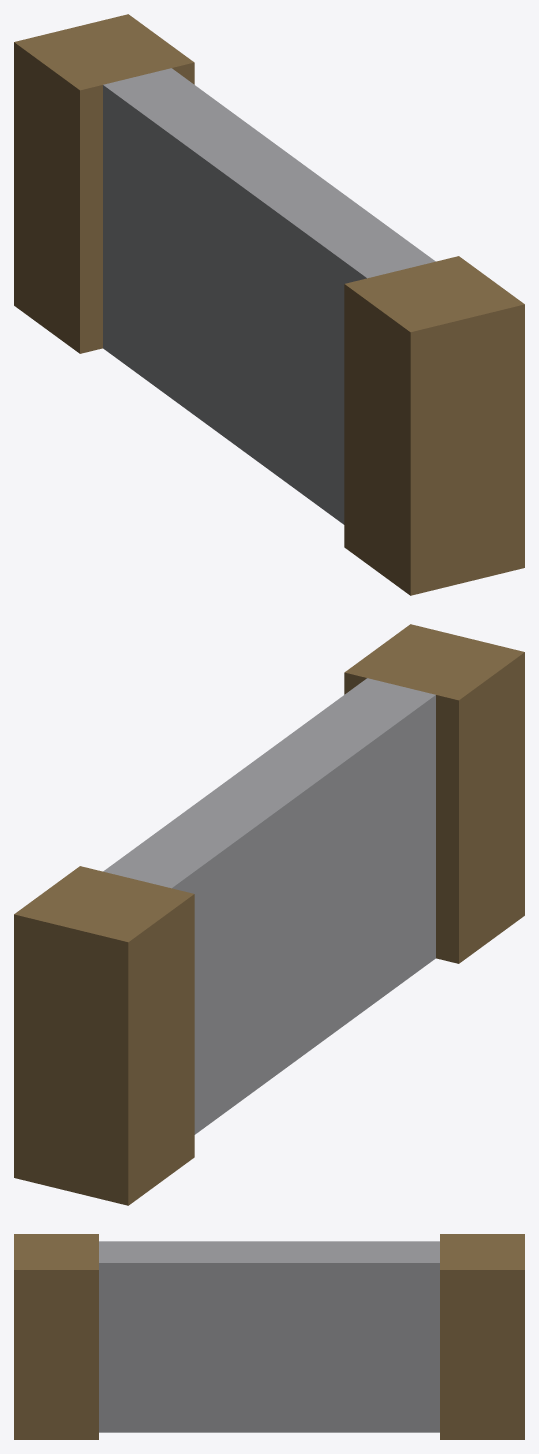
File: Wood_Small_Wall_01.obj
3 views of the same model, one above another, from view 1: azimuth 30°, elevation 25°; view 2: azimuth 150°, elevation 25°; view 3: azimuth 270°, elevation 25° (orthographic). The views are drawn at different scales.
Parts seen in each view (by area): view 1: Mesh1_Wood_Small_Wall_Model; view 2: Mesh1_Wood_Small_Wall_Model; view 3: Mesh1_Wood_Small_Wall_Model.
Boxes of the visible parts, x1,y1,x2,y2 form: Mesh1_Wood_Small_Wall_Model: (14, 14, 524, 595); Mesh1_Wood_Small_Wall_Model: (14, 624, 524, 1205); Mesh1_Wood_Small_Wall_Model: (14, 1234, 524, 1439).
Bounding box in the file's own units: 0.5 × 1.1 × 3.
